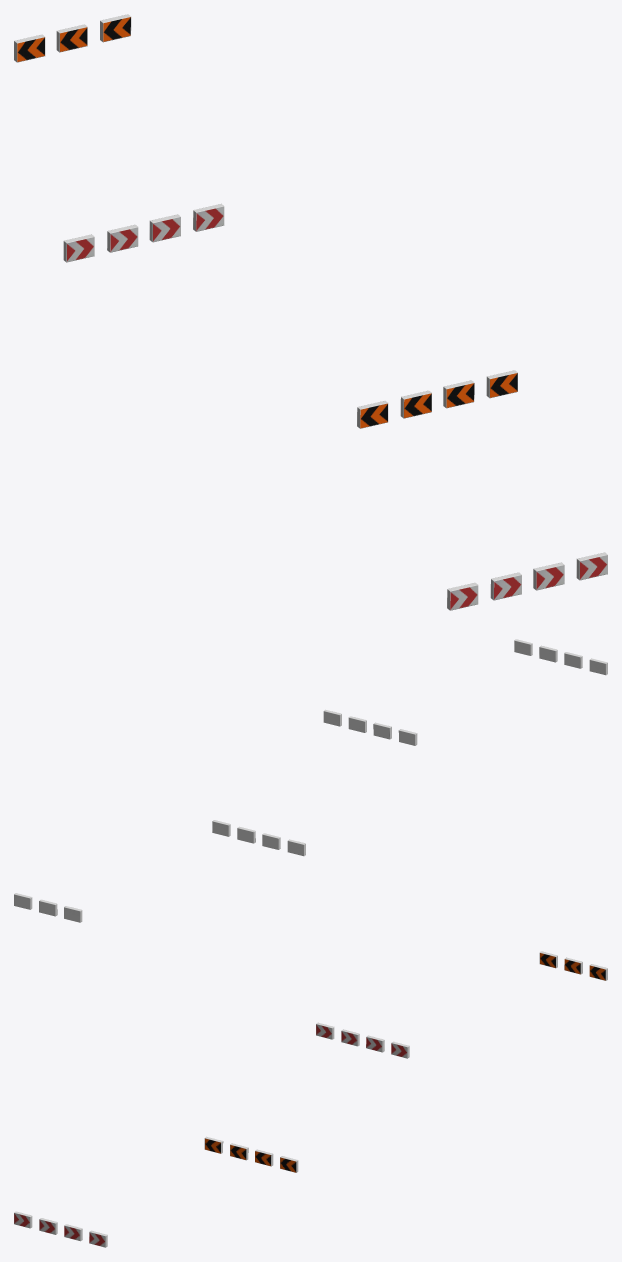
The model's file is dynamic.glb.
3 views of the same model, one above another, from view 1: azimuth 30°, elevation 25°; view 2: azimuth 150°, elevation 25°; view 3: azimuth 330°, elevation 25° (orthographic). The views are drawn at different scales.
Size of the model in its own units: 14.18 by 1.22 by 48.08.
1 material, 1 textured.
